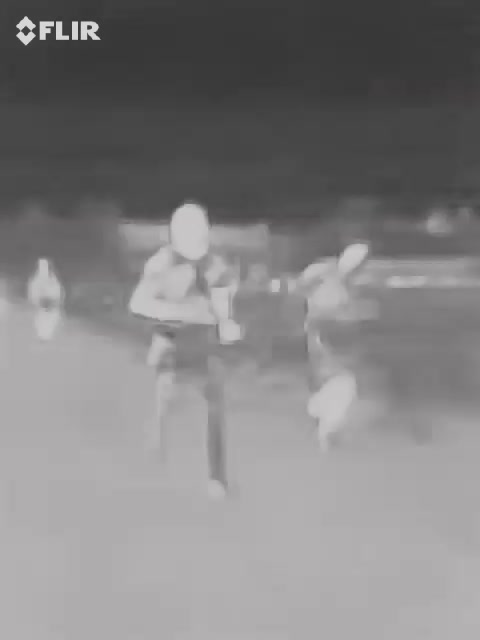head: (164, 199, 223, 264)
